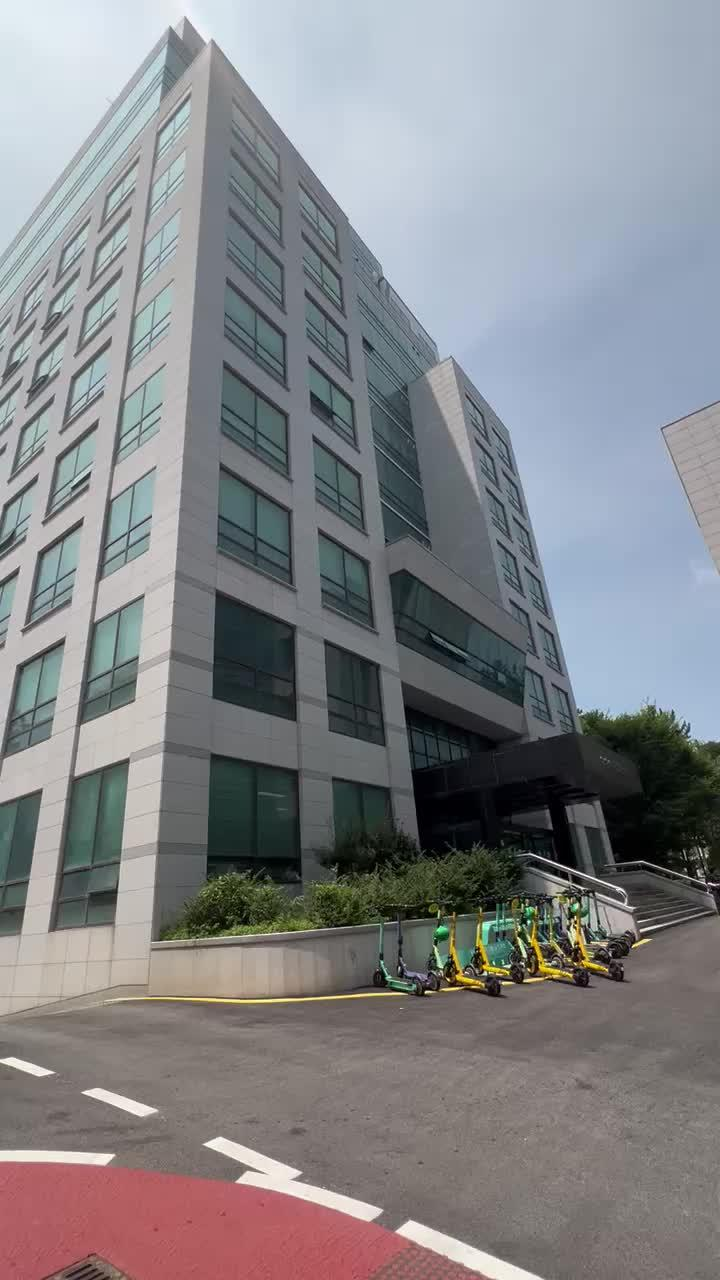building: (8, 26, 624, 836)
